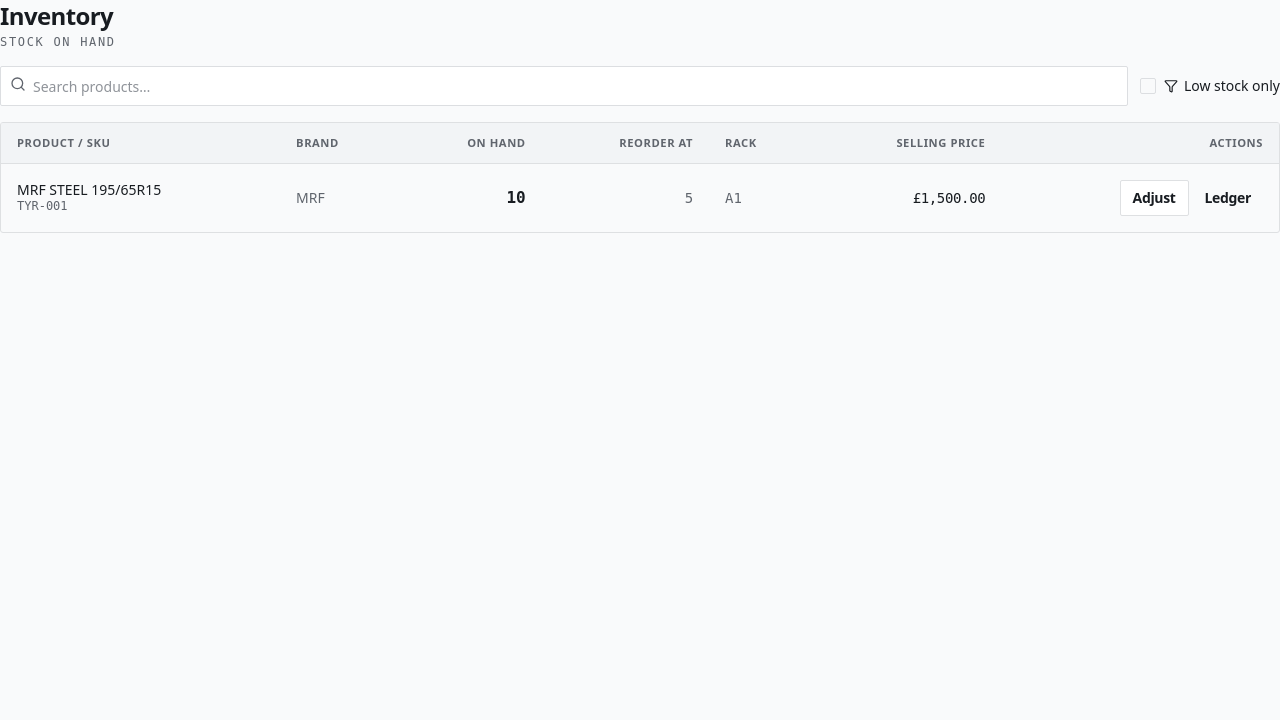
Test: InventoryListPage › opens adjust dialog and submits delta + reason
Click the button with aria-label "adjust stock for TYR-001" at [1154, 198], box [1120, 180, 1188, 216]
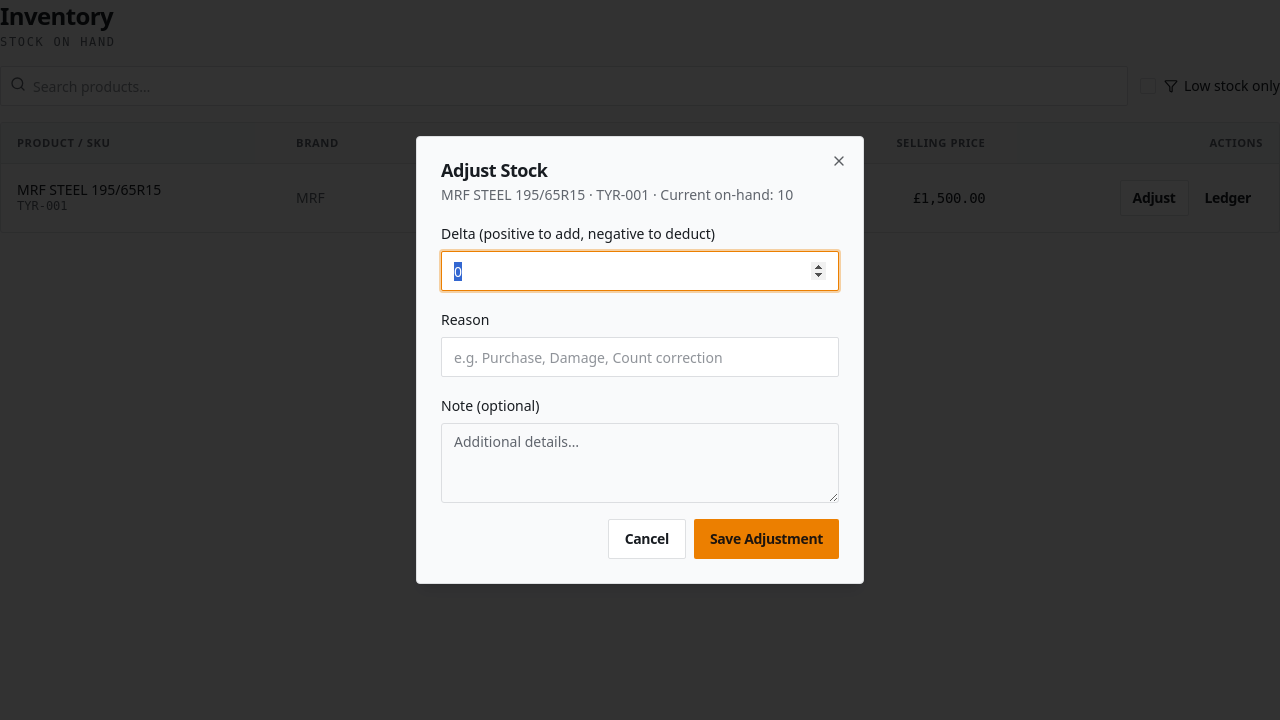
Result: the dialog is shown at [416, 136, 864, 584]
Replace the text in the number field labelled "Delta (positive to add, negative to deduct)" with "5" at [640, 271], box [441, 251, 839, 291]
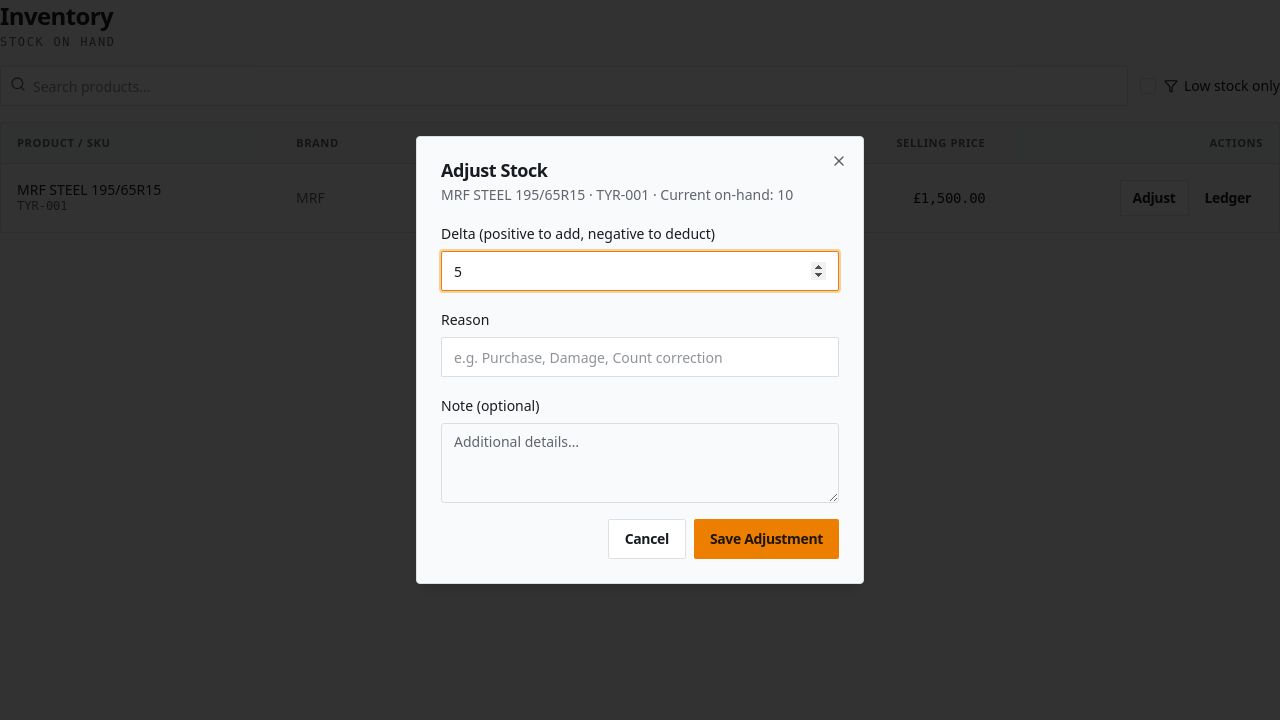
Type "Purchase" into the field labelled "Reason" at [640, 357], box [441, 337, 839, 377]
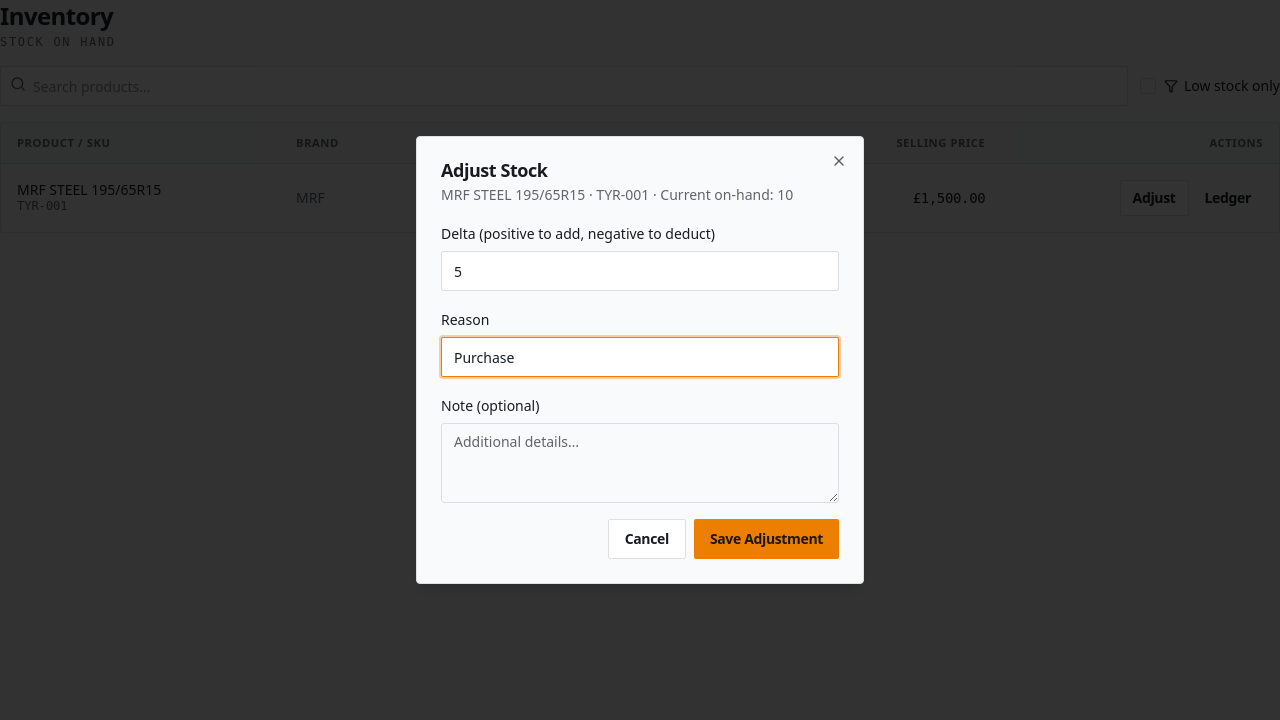
Click the button "Save Adjustment" at [766, 539], box [694, 519, 839, 559]
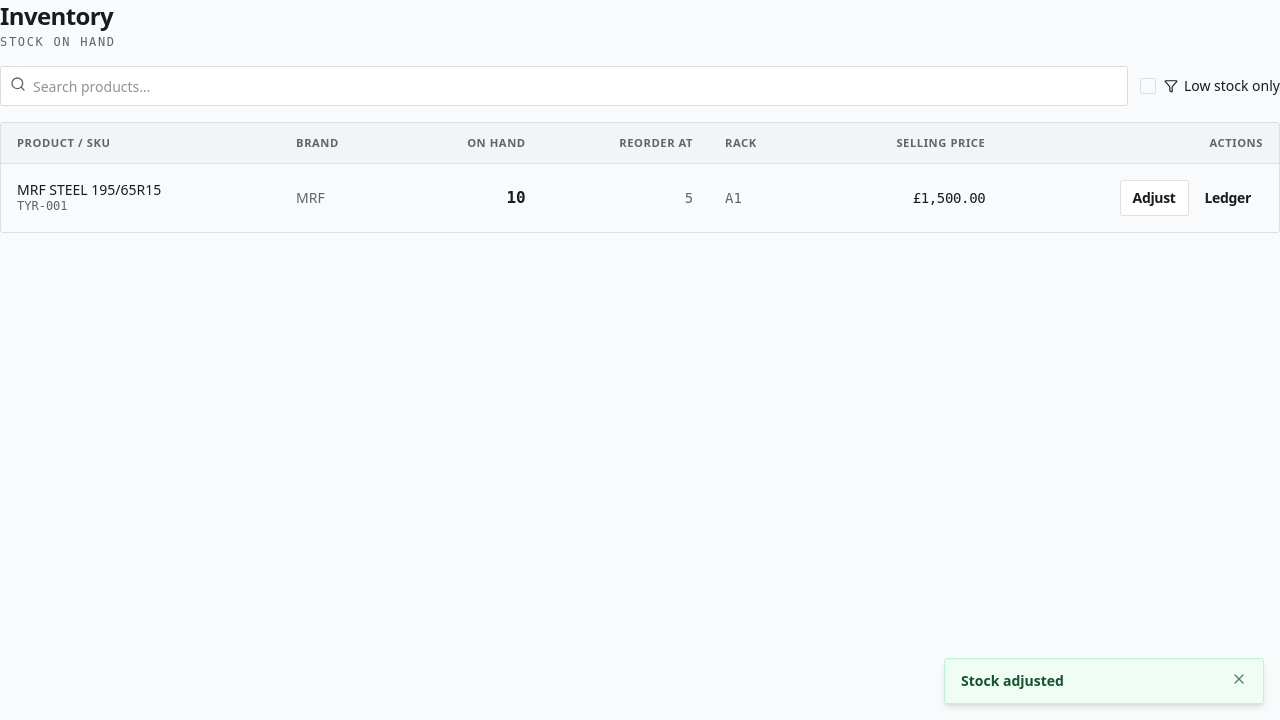
Result: the text "Stock adjusted" is shown at [961, 671, 1064, 690]
